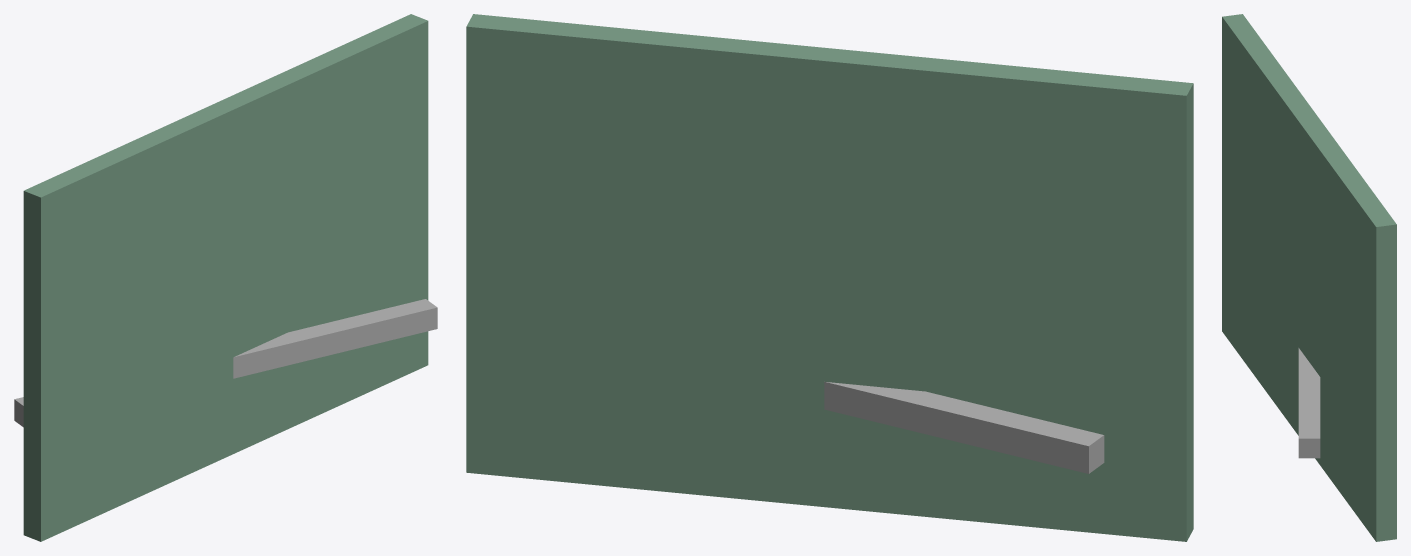
The model's file is windbent_tarp.glb.
The picture shows the model from 3 angles, left to right: view 1: azimuth 30°, elevation 25°; view 2: azimuth 150°, elevation 25°; view 3: azimuth 270°, elevation 25°; orthographic projection. The views are drawn at different scales.
Visible parts, largest first — view 1: tarp, frame; view 2: tarp, frame; view 3: tarp, frame.
Boxes of the visible parts, <box> form: tarp: <box>23,14,428,541</box>; frame: <box>14,299,437,427</box>; tarp: <box>466,14,1193,541</box>; frame: <box>824,381,1104,473</box>; tarp: <box>1222,14,1396,541</box>; frame: <box>1298,348,1320,458</box>.
Size of the model in its own units: 2.32 by 1.6 by 0.8045.
